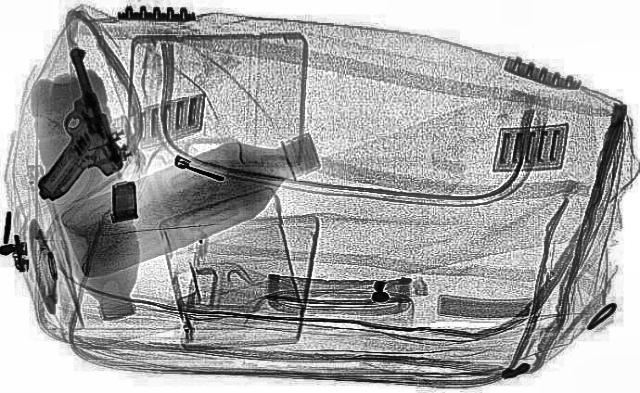Gun: (35, 46, 125, 200)
